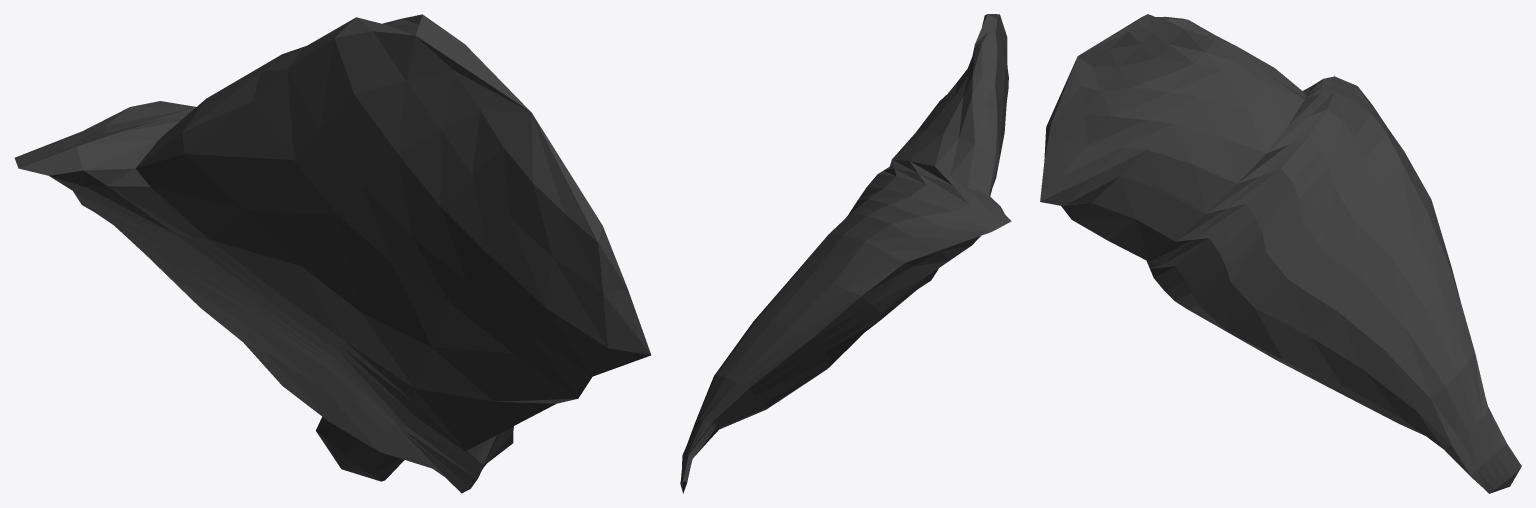
File: GluteusMed.glb
3 views of the same model, side by side, from view 1: azimuth 30°, elevation 25°; view 2: azimuth 150°, elevation 25°; view 3: azimuth 270°, elevation 25° (orthographic). The views are drawn at different scales.
Parts seen in each view (by area): view 1: GluteusMed; view 2: GluteusMed; view 3: GluteusMed.
Boxes of the visible parts, x1,y1,x2,y2 form: GluteusMed: (14, 14, 651, 493); GluteusMed: (680, 14, 1011, 493); GluteusMed: (1040, 14, 1521, 493).
Bounding box in the file's own units: 2.78 × 3.89 × 4.18.
1 material, 1 textured.
